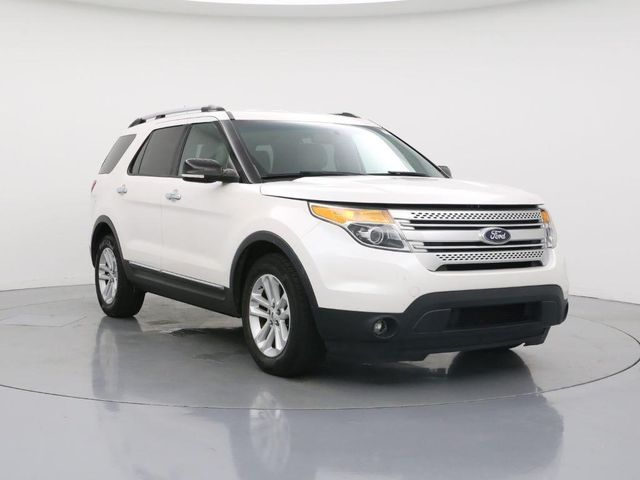Ford Explorer: (82, 102, 575, 381)
